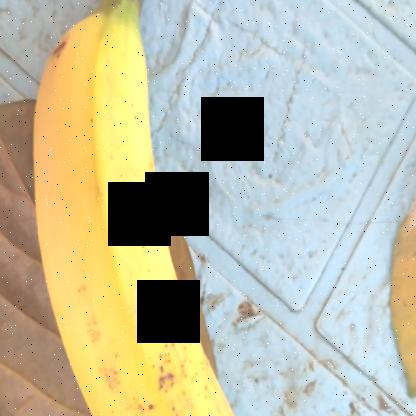ripe: (25, 21, 257, 415)
